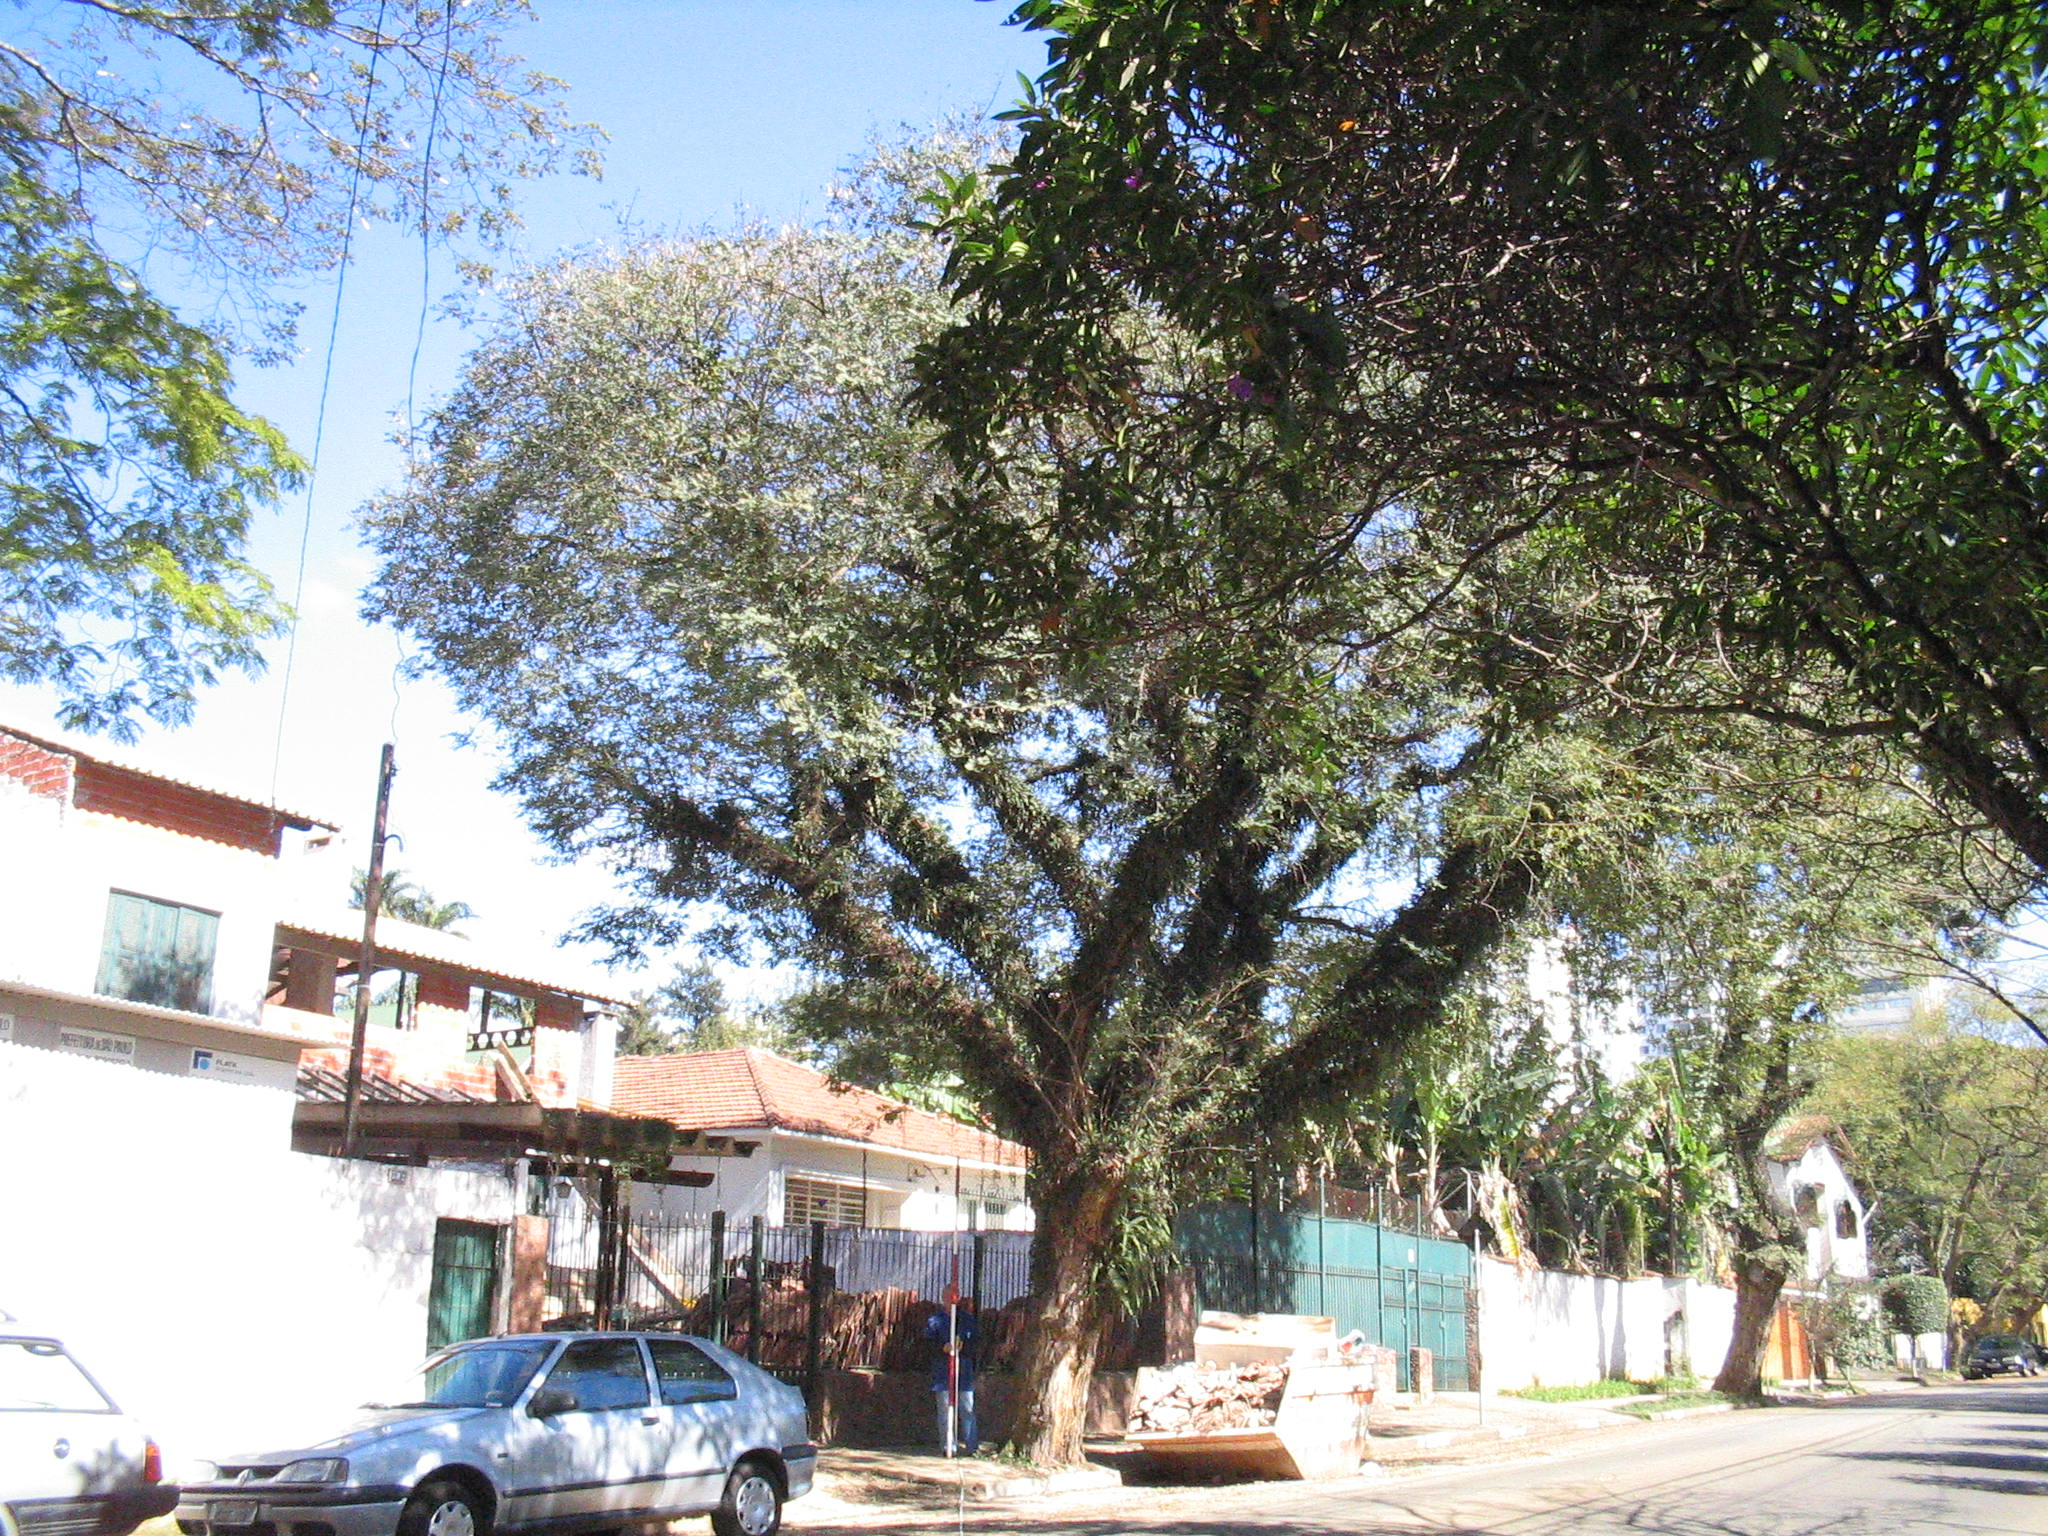crown: (355, 92, 1945, 1144)
stem: (984, 1205, 1140, 1473), (1700, 1267, 1796, 1397)
stick: (935, 1149, 972, 1455)
tree: (347, 86, 1938, 1475)
